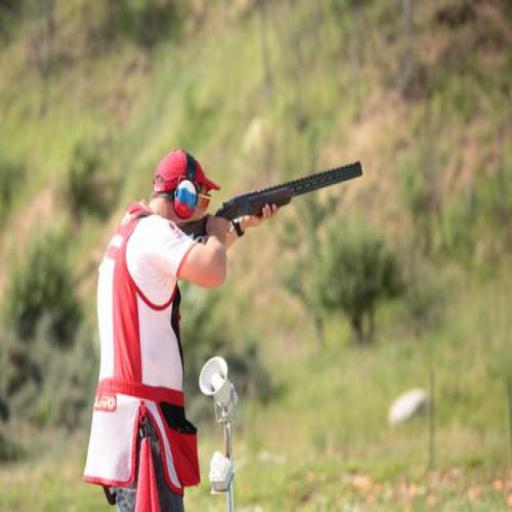shooting: (81, 146, 281, 510)
